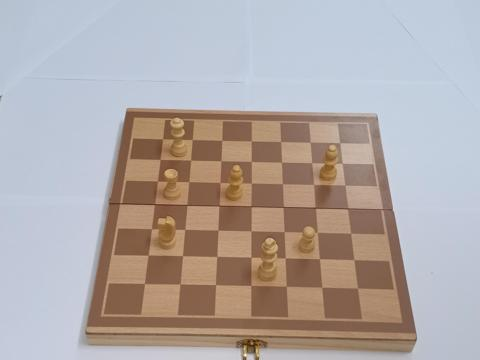xcorner: (152, 176, 162, 186), (246, 156, 256, 166), (247, 253, 257, 263), (279, 202, 289, 212), (319, 283, 329, 293), (355, 284, 365, 294), (157, 134, 167, 143), (155, 154, 164, 164), (147, 224, 156, 234), (143, 251, 153, 260), (140, 279, 149, 289), (187, 134, 196, 144), (185, 155, 195, 164), (182, 200, 191, 210), (214, 201, 224, 210), (213, 252, 222, 262), (247, 178, 256, 188), (276, 136, 285, 146), (281, 227, 290, 237), (305, 137, 315, 146), (307, 158, 317, 167), (309, 180, 319, 189), (338, 158, 347, 168), (341, 180, 350, 190), (344, 204, 354, 213), (351, 256, 361, 265), (150, 200, 159, 209), (184, 177, 193, 186), (180, 225, 189, 234), (178, 252, 187, 261), (176, 280, 185, 289), (217, 135, 226, 144), (216, 156, 225, 165), (215, 178, 224, 187), (214, 226, 223, 235), (212, 281, 221, 290), (246, 136, 255, 145), (247, 202, 256, 211), (247, 227, 256, 236), (248, 282, 257, 291), (277, 157, 286, 166), (278, 179, 287, 188), (282, 254, 291, 263), (284, 283, 293, 292), (312, 203, 321, 212), (314, 228, 323, 237), (317, 255, 326, 264), (335, 138, 344, 147), (348, 229, 357, 238)
